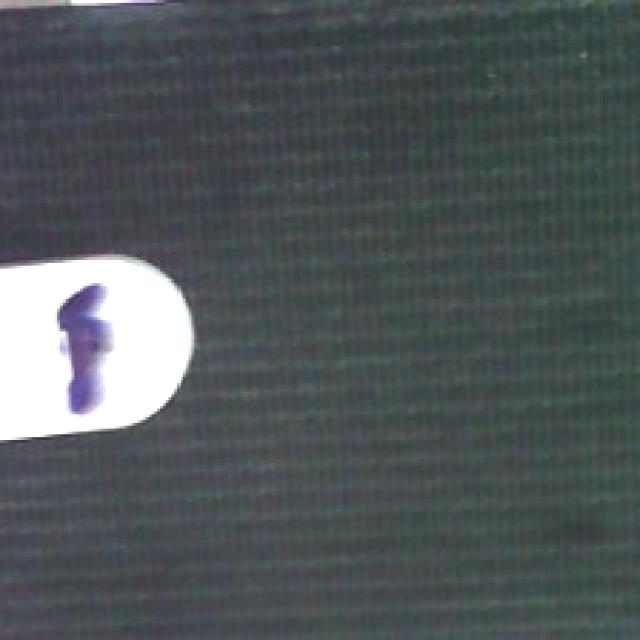defected: (0, 248, 200, 448)
